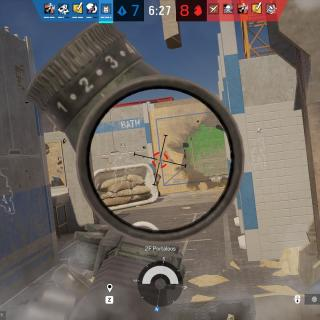Friend_label: (117, 142, 128, 154), (254, 127, 265, 139), (1, 164, 9, 171)
